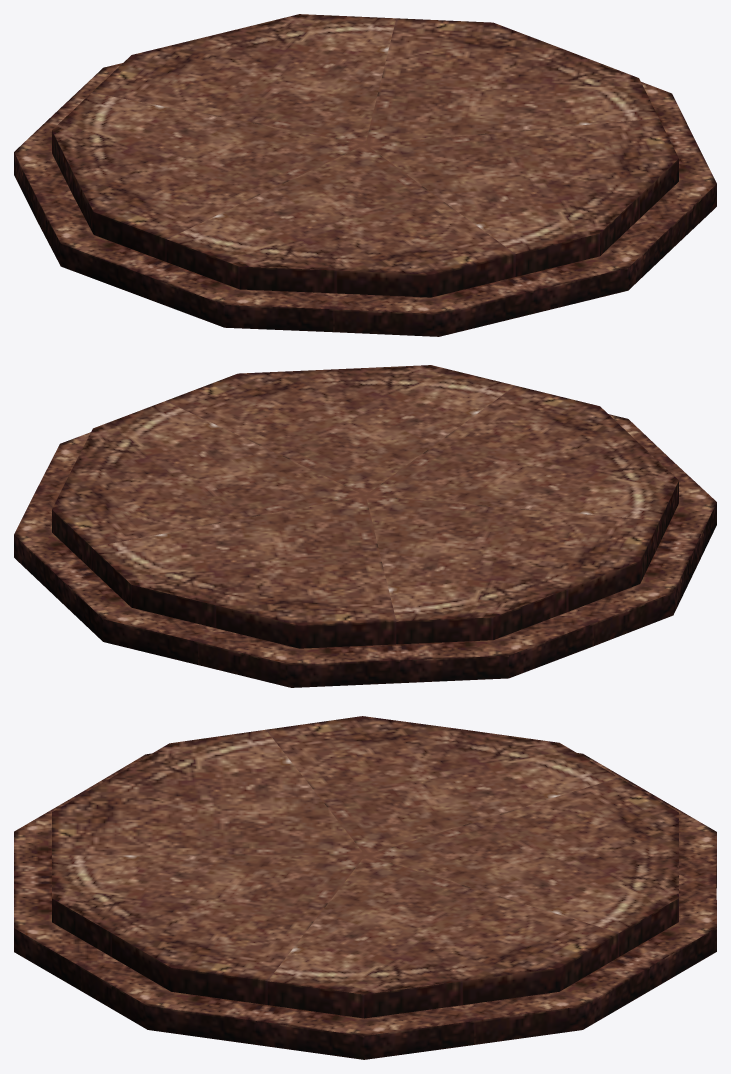
The model's file is warpgate02_01.glb.
3 views of the same model, one above another, from view 1: azimuth 30°, elevation 25°; view 2: azimuth 150°, elevation 25°; view 3: azimuth 270°, elevation 25° (orthographic). The views are drawn at different scales.
Visible parts, largest first — view 1: gate02; view 2: gate02; view 3: gate02.
Part boxes in pixels (<box>): gate02: <box>14,14,716,336</box>; gate02: <box>14,365,716,687</box>; gate02: <box>14,716,716,1059</box>.
Size of the model in its own units: 12.17 by 0.8804 by 11.58.
Materials: 1 (1 with a texture image).
